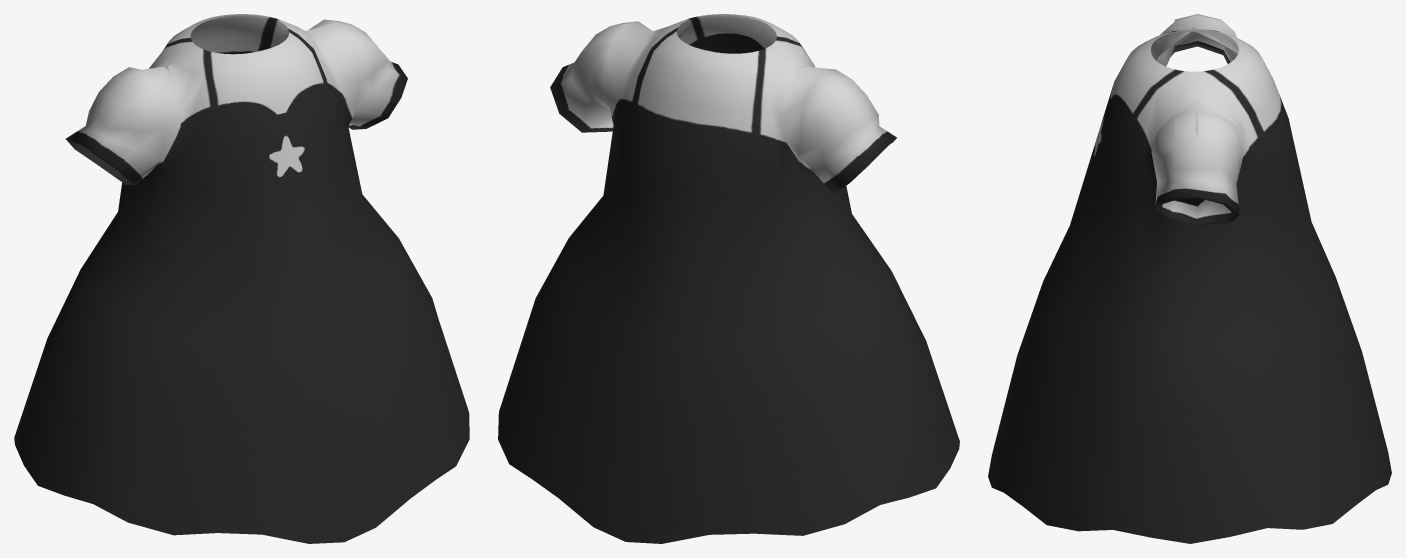
Rendered from vestido.glb.
3 renders of one model, left to right at view 1: azimuth 30°, elevation 25°; view 2: azimuth 150°, elevation 25°; view 3: azimuth 270°, elevation 25°, orthographic. The views are drawn at different scales.
Visible parts, largest first — view 1: vestido; view 2: vestido; view 3: vestido.
Boxes of the visible parts, x1=… form: vestido: x1=14, y1=14, x2=469, y2=543; vestido: x1=498, y1=14, x2=959, y2=543; vestido: x1=988, y1=14, x2=1391, y2=543.
Size of the model in its own units: 0.8172 by 0.8257 by 0.7082.
Materials: 1 (1 with a texture image).
